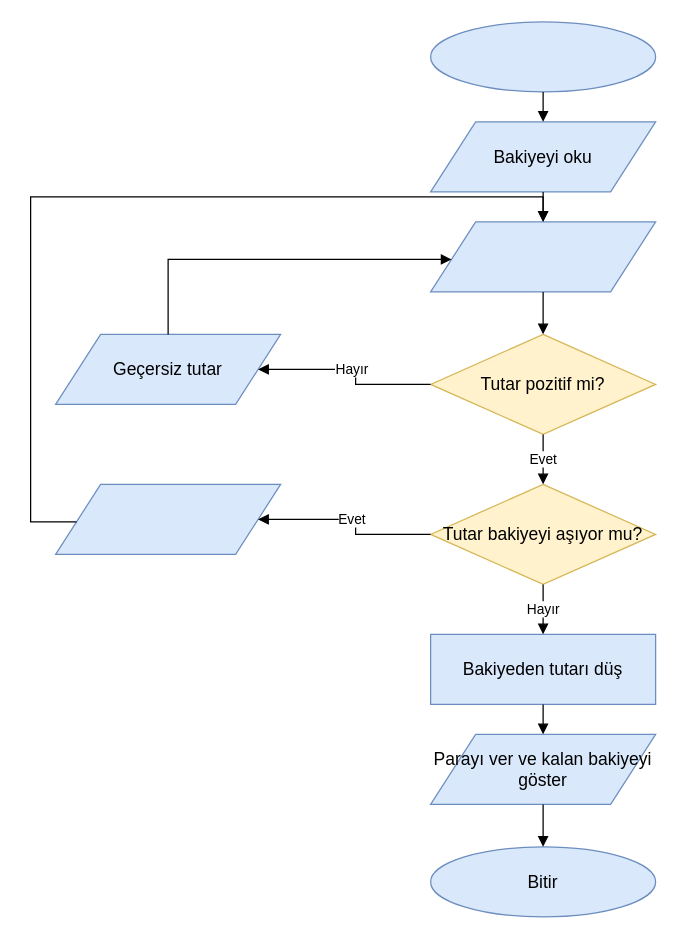
Some shapes in this 678 by 939 pixel diagram are drawn without their labels. The centre of each missing label's shape, as x and y in pixels:
Başla: point 542,56
Yetersiz bakiye: point 167,518
Çekilecek tutarı gir: point 542,256
